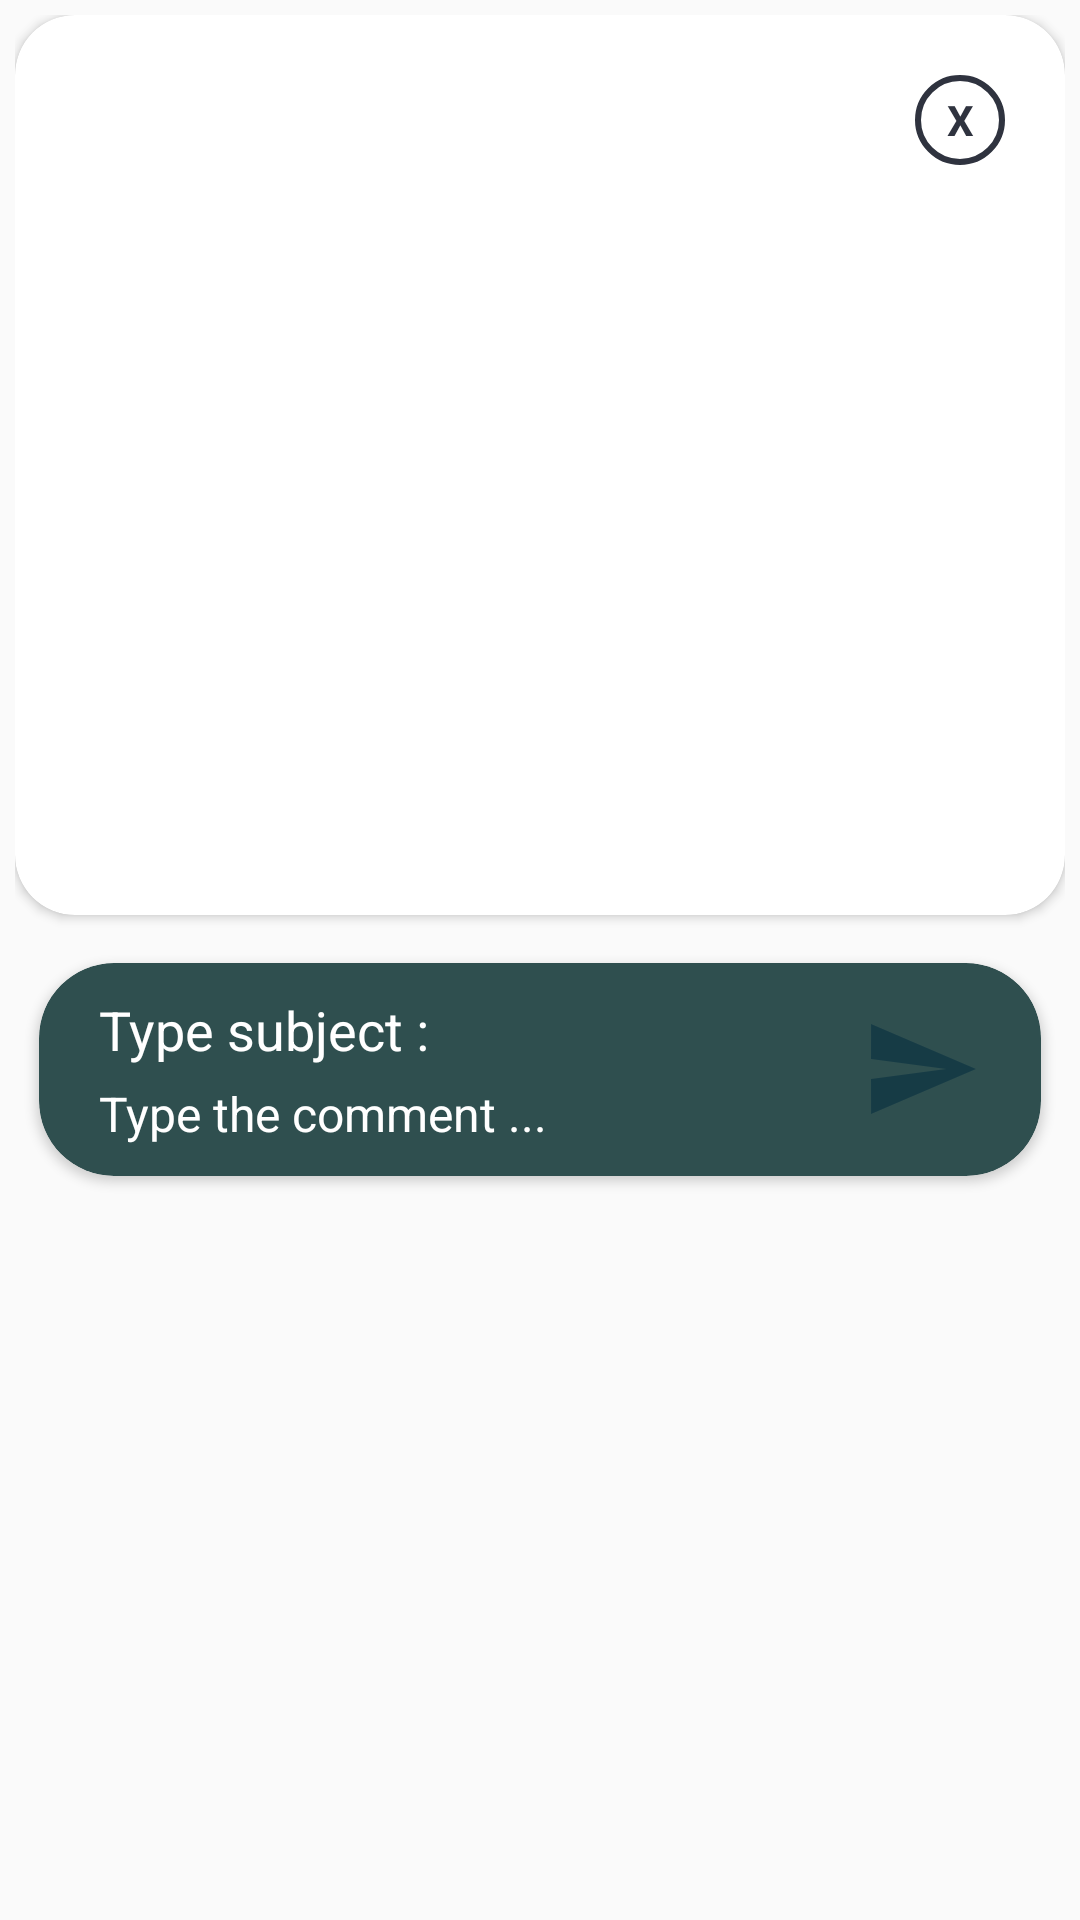

Where icons sit on this 1080×1920 app screen, as (x1=x1, y1=y1, x2=x2, y2=y2):
send: (x1=871, y1=1025, x2=973, y2=1113)
